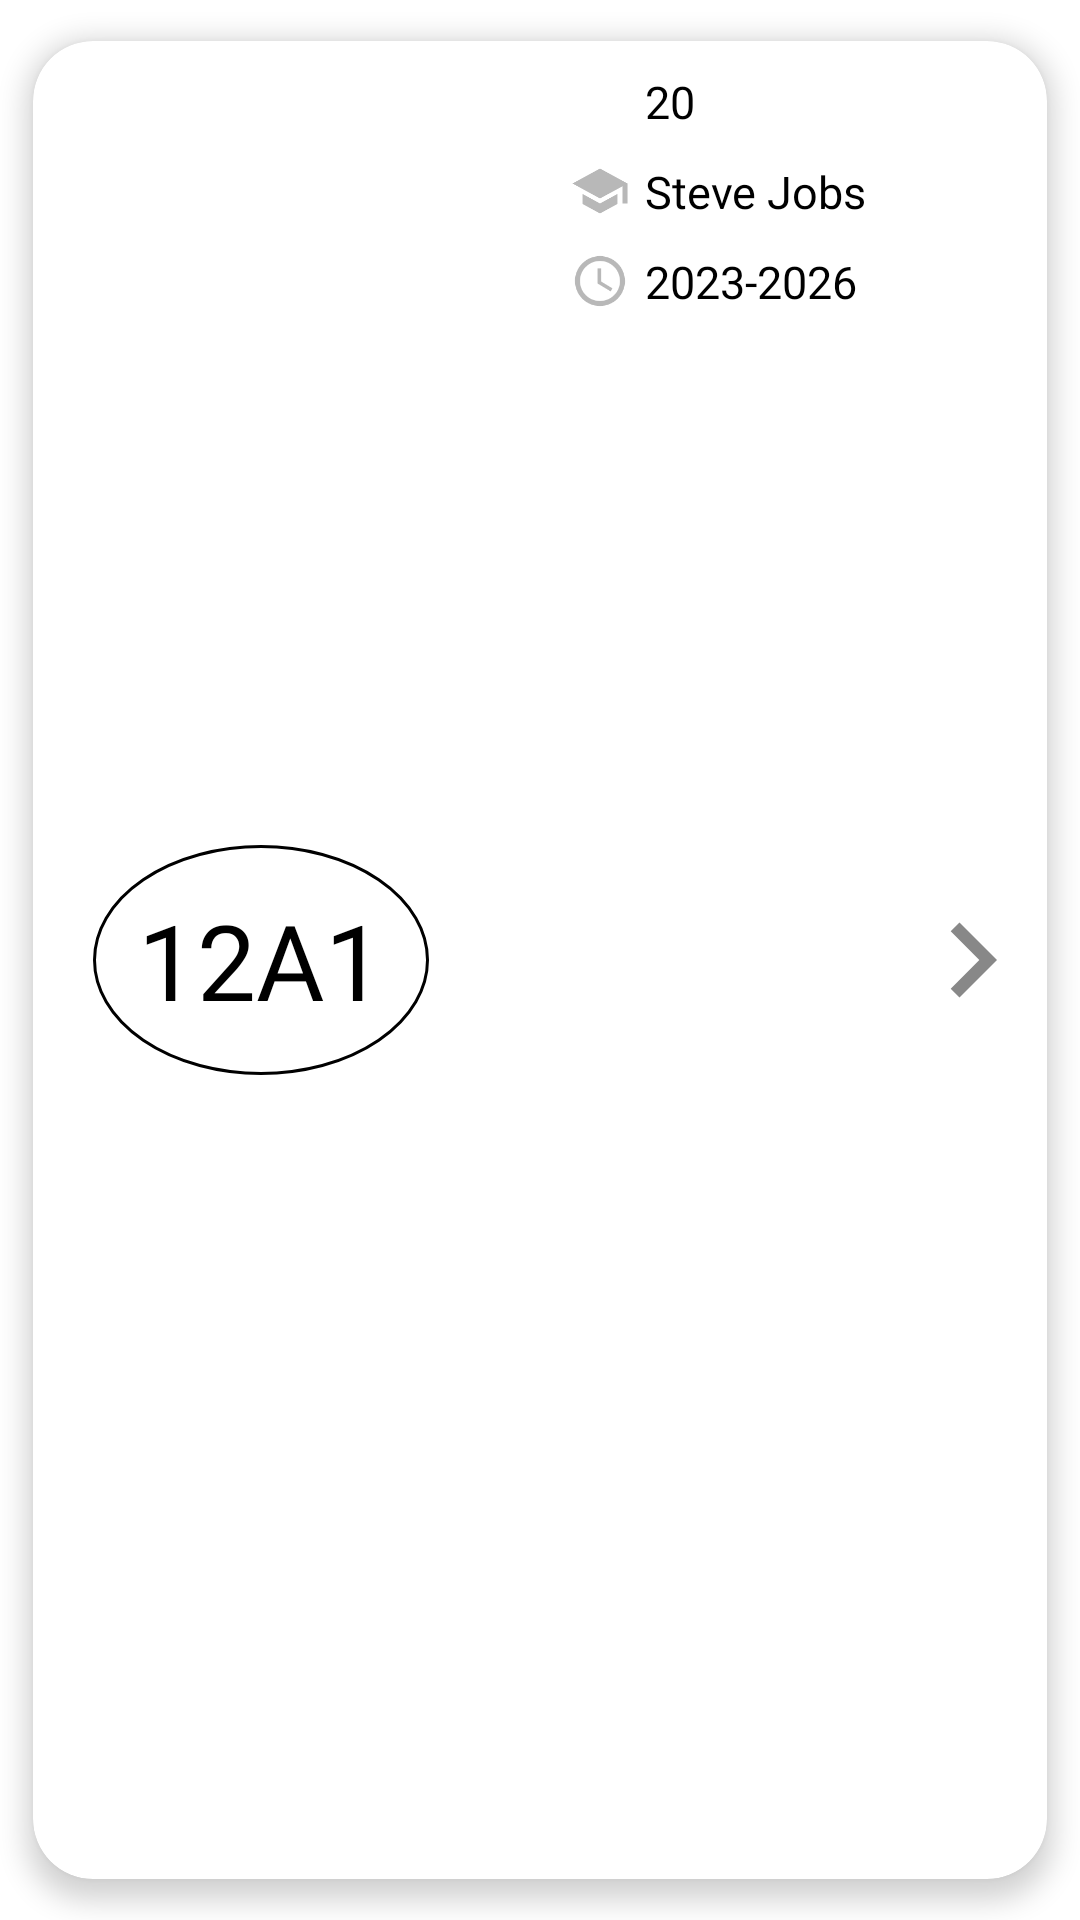

Locate icon controls on the screen. Image size 1080x1920, boxes as (x1, y1, x2, y2).
navigate next: (951, 922, 997, 998)
semester: (575, 256, 625, 306)
